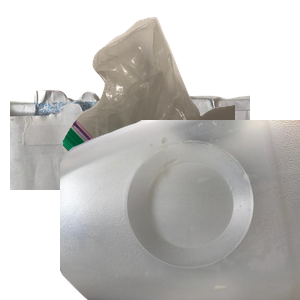glass: (102, 181, 246, 300)
paper: (10, 84, 250, 264)
plastic: (60, 120, 300, 300)
trash: (60, 14, 300, 194)
